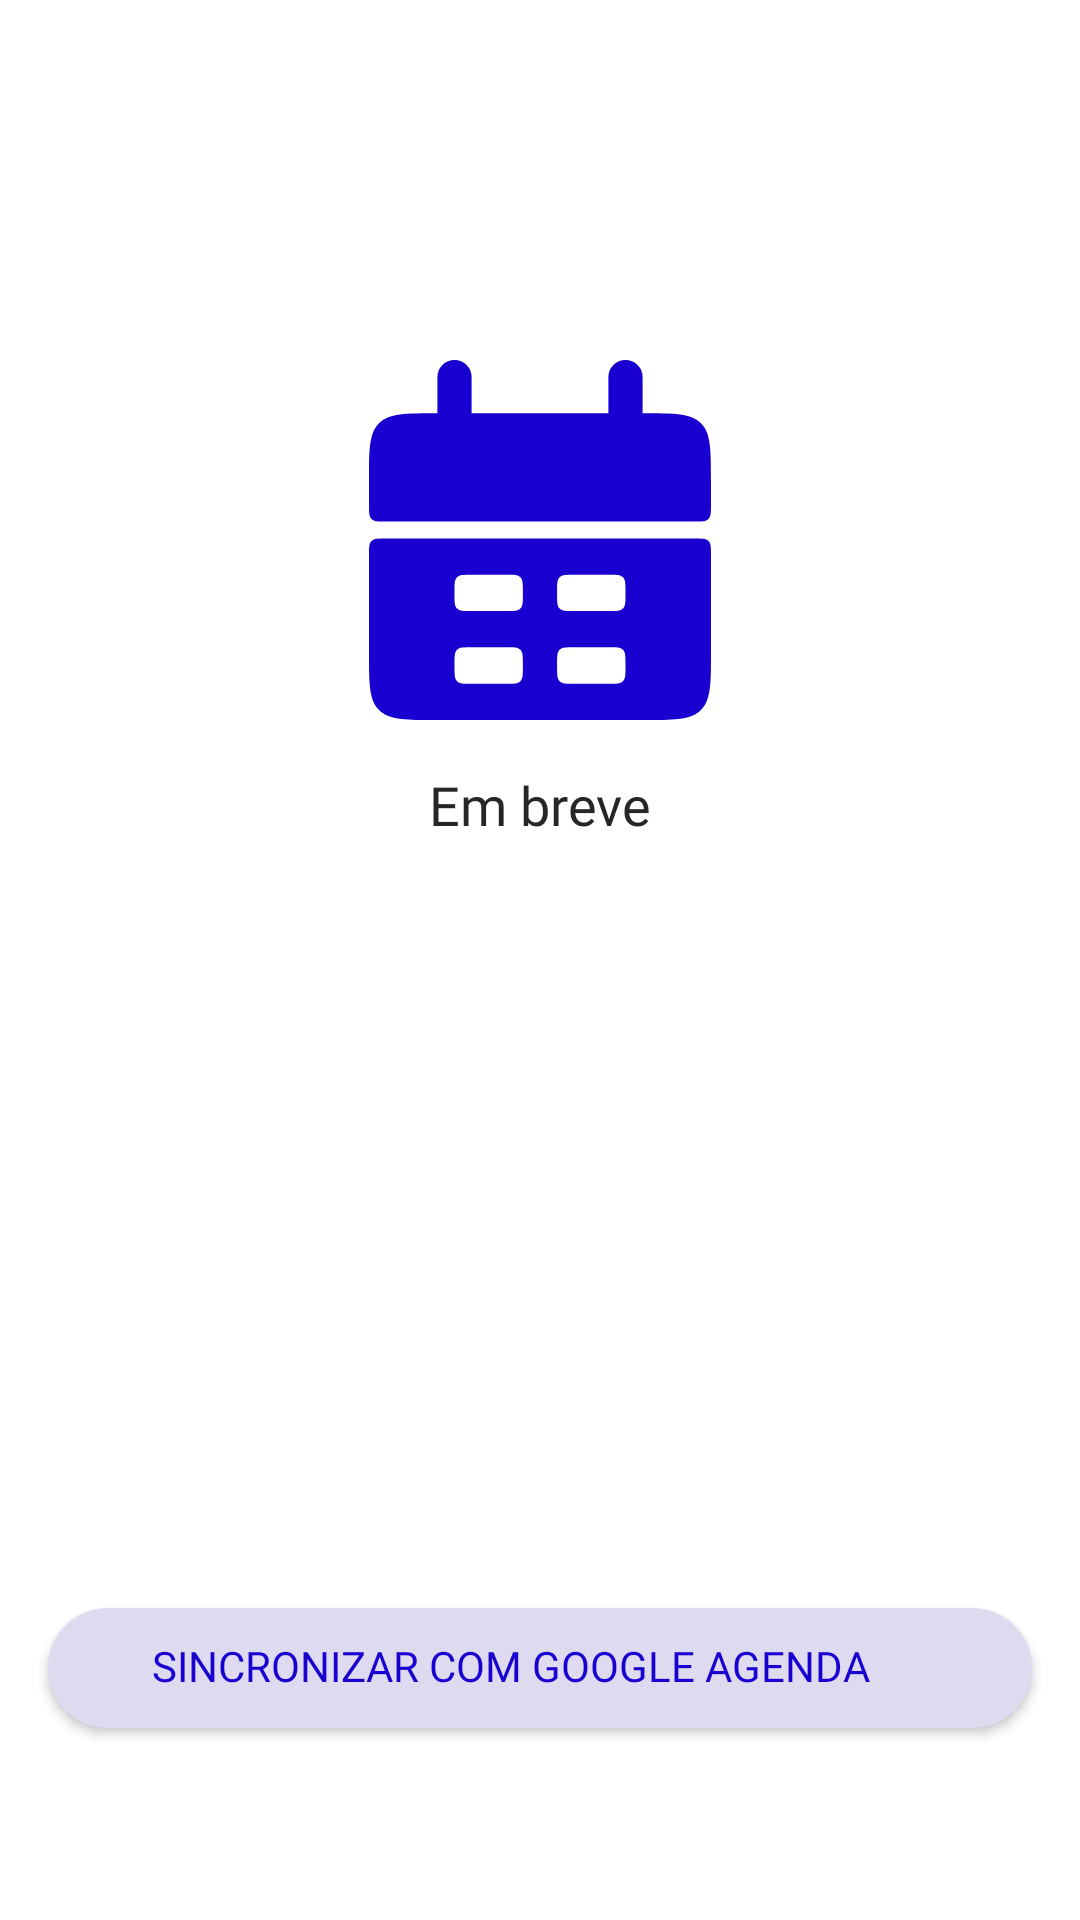

Screen size 1080 x 1920. Icon name, then its center in pixels as point (x, y):
calendar: point (540, 540)
